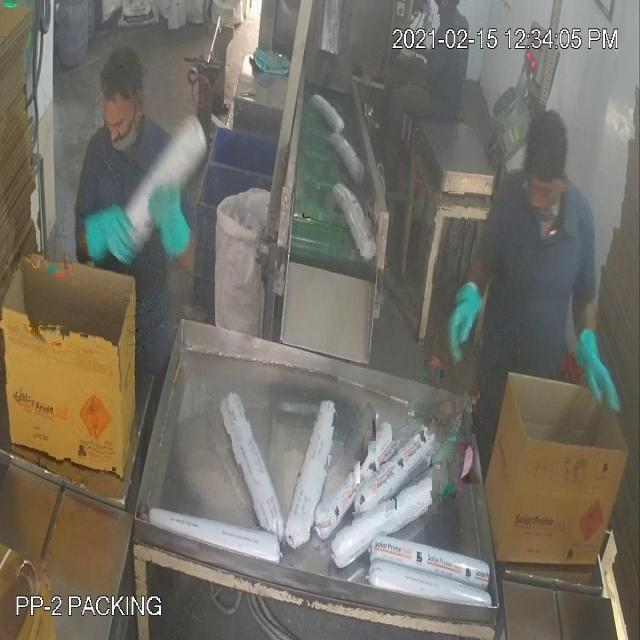Gloves: (58, 104, 595, 372)
